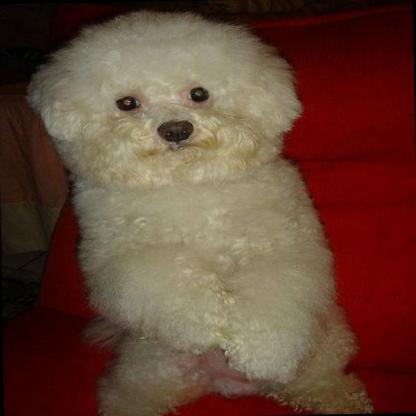toy_poodle: (34, 9, 374, 416)
